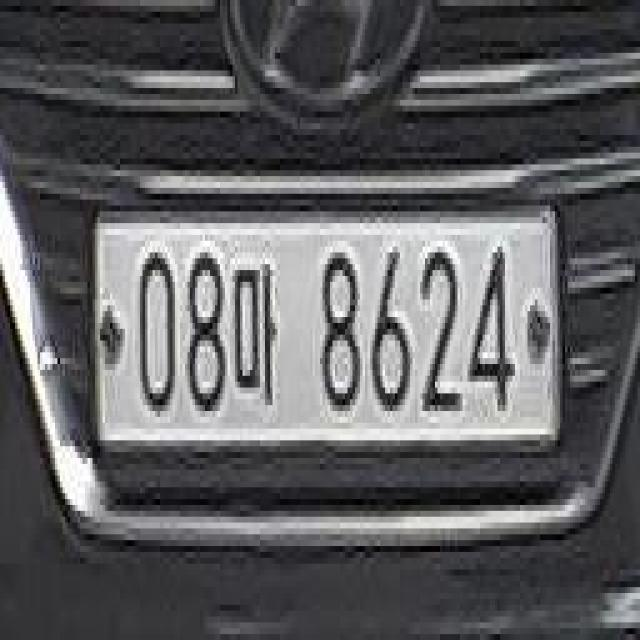illegal_plate: (91, 188, 562, 494)
